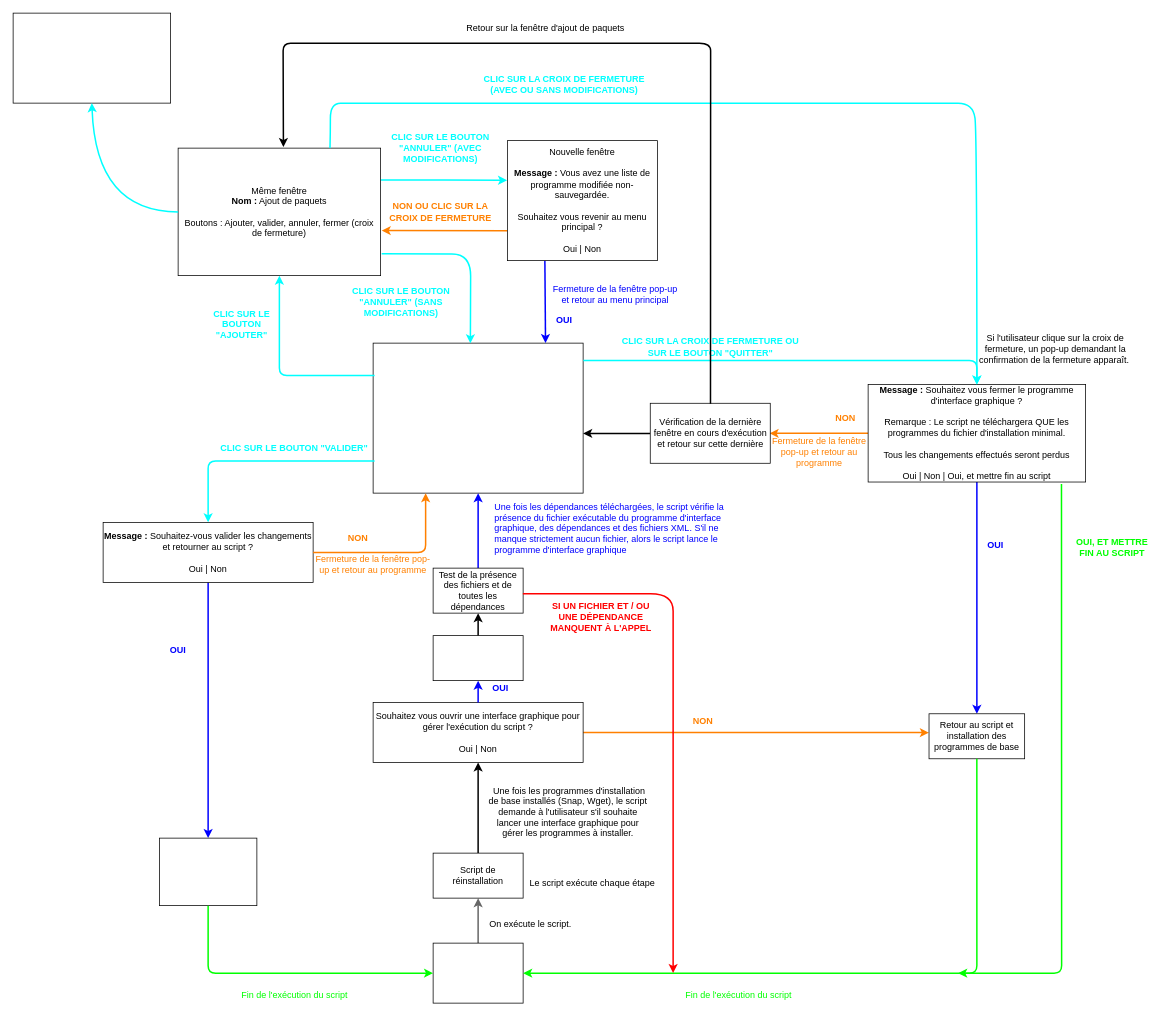
Image size: 1167x1016. Some labels were removed from this diagram. The centre of each missing label's shape, as x and y in pixels:
Installation des dépendances: (x=477, y=658)
Interface graphique Nom : Menu principal Boutons : Valider, ajouter, quitter: (x=477, y=417)
Retour au script et installation des programmes souhaités: (x=208, y=871)
Script de parsing de fichiers XMLcodé en Python: (x=91, y=57)
Terminal: (x=477, y=972)
